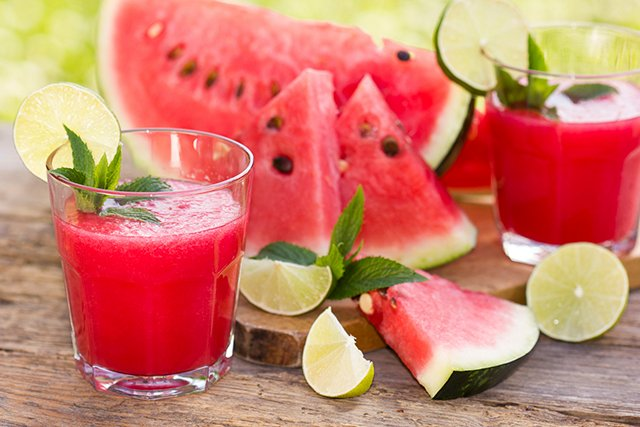Semangka: (221, 55, 347, 264), (343, 275, 539, 407), (342, 79, 479, 260)
